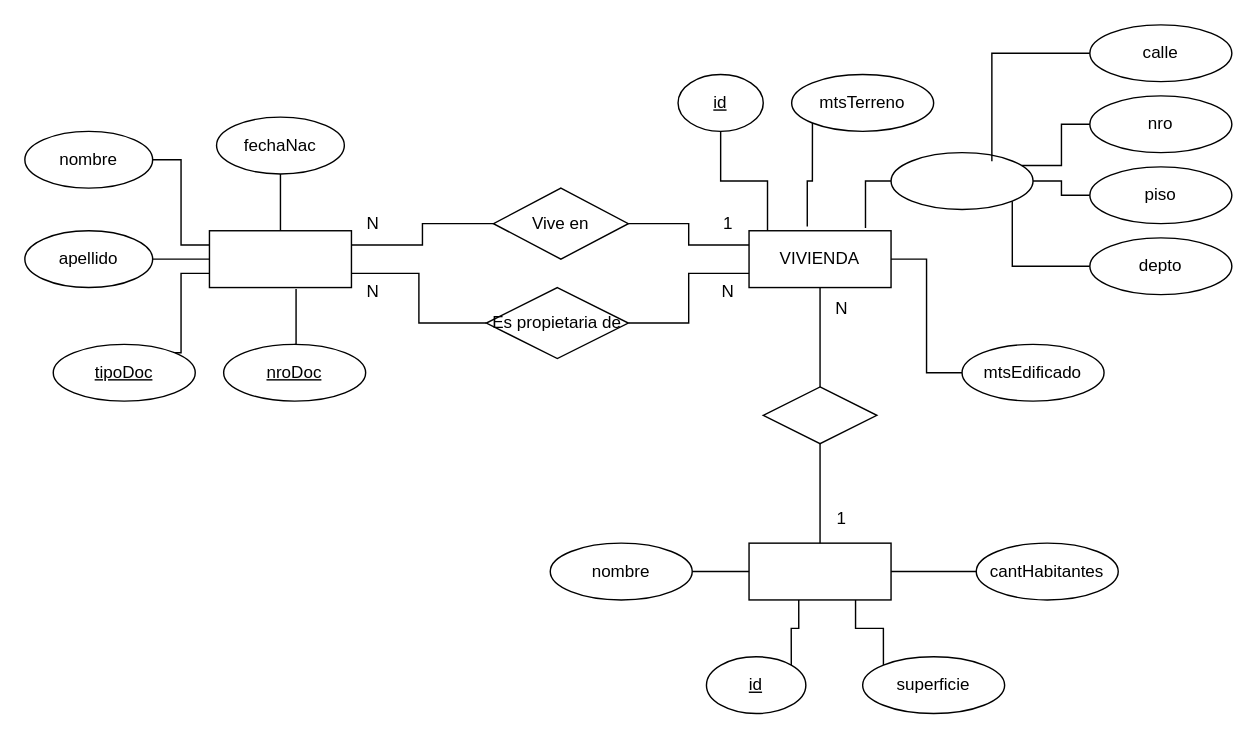
Image size: 1257x738. Some labels were removed from this diagram. The centre of each missing label's shape, as x and y in pixels:
"direccion" goes at (x=961, y=180).
"MUNICIPIO" goes at (x=819, y=571).
"PERSONA" goes at (x=279, y=258).
"Se encuentra en" goes at (x=819, y=415).
